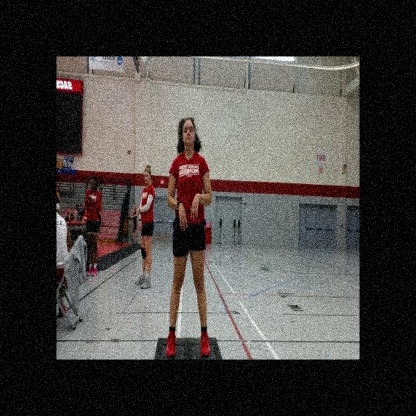lateral_flexion_normal: (163, 113, 215, 359)
stance_width_broad: (164, 145, 215, 360)
